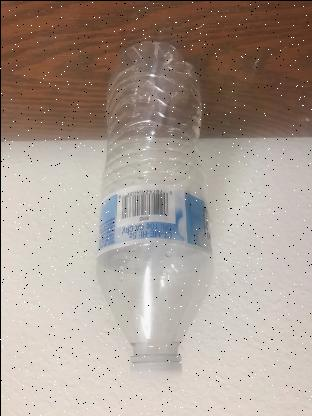Plastic Bottle: (95, 40, 213, 380)
